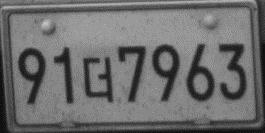1: (49, 45, 79, 104)
3: (217, 42, 247, 100)
6: (185, 43, 216, 100)
7: (117, 45, 147, 103)
9: (16, 45, 47, 105), (151, 43, 181, 103)
더: (81, 55, 116, 104)
